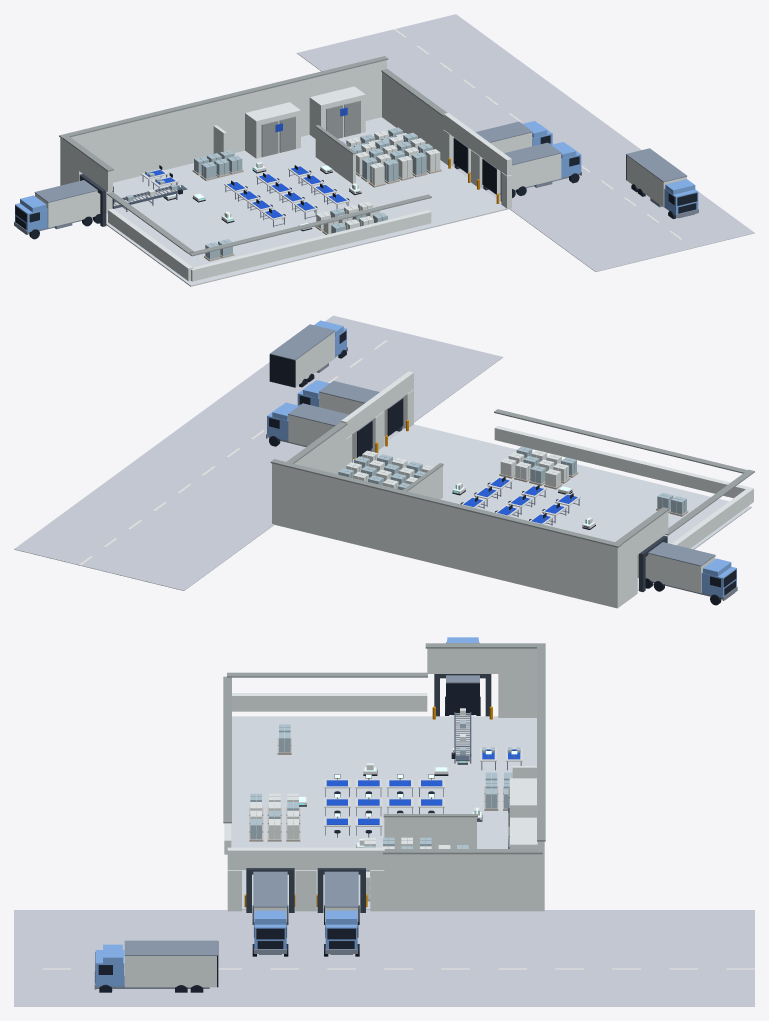
The model's file is smart_warehouse.glb.
3 renders of one model, top to bottom at view 1: azimuth 30°, elevation 25°; view 2: azimuth 150°, elevation 25°; view 3: azimuth 270°, elevation 25°, orthographic. The views are drawn at different scales.
Parts seen in each view (by area): view 1: Truck_Road_East, Warehouse_Floor, Wall_North, Truck_Stationary_Dock1, Wall_South_Low, Truck_Stationary_Dock3, Truck_Moving_Road, Wall_East_High, Truck_Stationary_Dock2, Wall_North_Cap, Cold_Room_1_Frame, Wall_West_Low (+13 smaller); view 2: Truck_Road_East, Wall_North, Warehouse_Floor, Truck_Stationary_Dock1, Wall_South_Low, Truck_Moving_Road, Truck_Stationary_Dock2, Truck_Stationary_Dock3, Wall_North_Cap, Wall_East_Dock_Top, Wall_West_Low, Wall_East_High (+5 smaller); view 3: Truck_Road_East, Warehouse_Floor, Wall_East_High, Truck_Moving_Road, Wall_West_Low, Wall_East_Dock_Top, Truck_Stationary_Dock3, Truck_Stationary_Dock2, Wall_West_High, Interior_Partition_East, Wall_West_Dock_Top, Wall_North_Cap (+12 smaller).
Part boxes in pixels (x1,y1,x2,y2): Truck_Road_East: (297,14,754,271); Warehouse_Floor: (106,117,506,286); Wall_North: (60,60,386,185); Truck_Stationary_Dock1: (14,180,113,239); Wall_South_Low: (191,210,431,281); Truck_Stationary_Dock3: (482,142,581,197); Truck_Moving_Road: (626,148,698,218); Wall_East_High: (382,72,443,161); Truck_Stationary_Dock2: (453,121,552,173); Wall_North_Cap: (59,56,388,138); Cold_Room_1_Frame: (245,102,300,158); Wall_West_Low: (108,208,193,280); Truck_Road_East: (14,315,503,590); Wall_North: (272,463,618,608); Warehouse_Floor: (378,424,751,590); Truck_Stationary_Dock1: (637,542,737,605); Wall_South_Low: (494,426,751,498); Truck_Moving_Road: (269,320,347,387); Truck_Stationary_Dock2: (266,402,372,458); Truck_Stationary_Dock3: (297,380,403,436); Wall_North_Cap: (270,459,621,547); Wall_East_Dock_Top: (341,371,413,438); Wall_West_Low: (671,487,753,548); Wall_East_High: (294,426,346,474); Truck_Road_East: (14,910,754,1006); Warehouse_Floor: (231,716,536,909); Wall_East_High: (384,854,541,911); Truck_Moving_Road: (94,940,218,992); Wall_West_Low: (232,693,427,711); Wall_East_Dock_Top: (227,847,384,869); Truck_Stationary_Dock3: (252,871,288,956); Truck_Stationary_Dock2: (324,871,359,956); Wall_West_High: (498,648,536,717); Interior_Partition_East: (384,817,476,848); Wall_West_Dock_Top: (427,648,498,673); Wall_North_Cap: (537,643,545,841).
Size of what is drawn, in the model's own units: 55.57 by 5.91 by 52.
